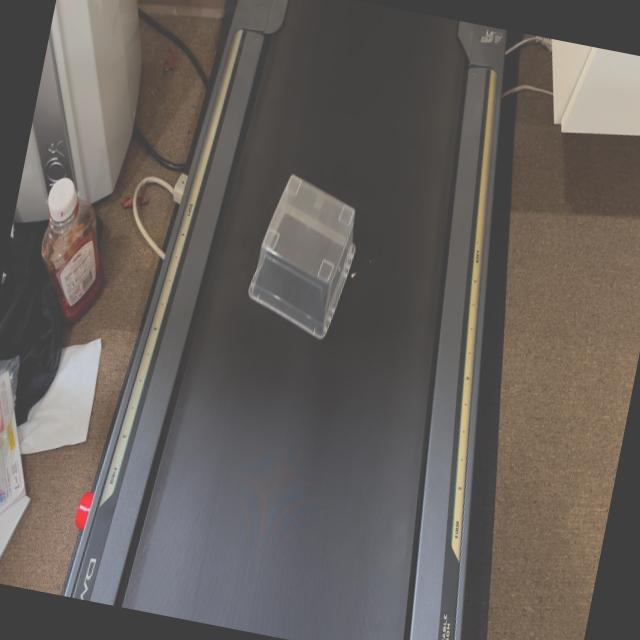Recycle: (241, 172, 367, 344)
